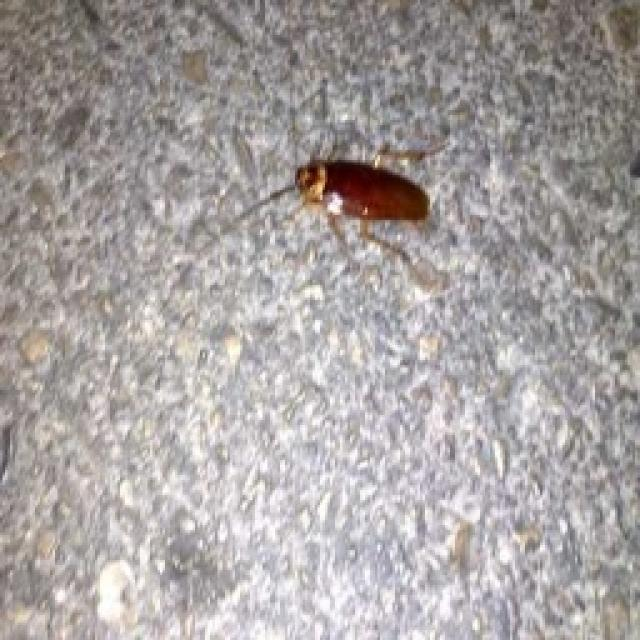cockroach: (292, 158, 433, 225)
